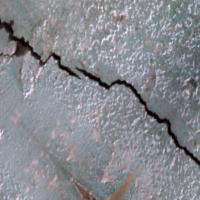crack: (1, 10, 198, 172)
